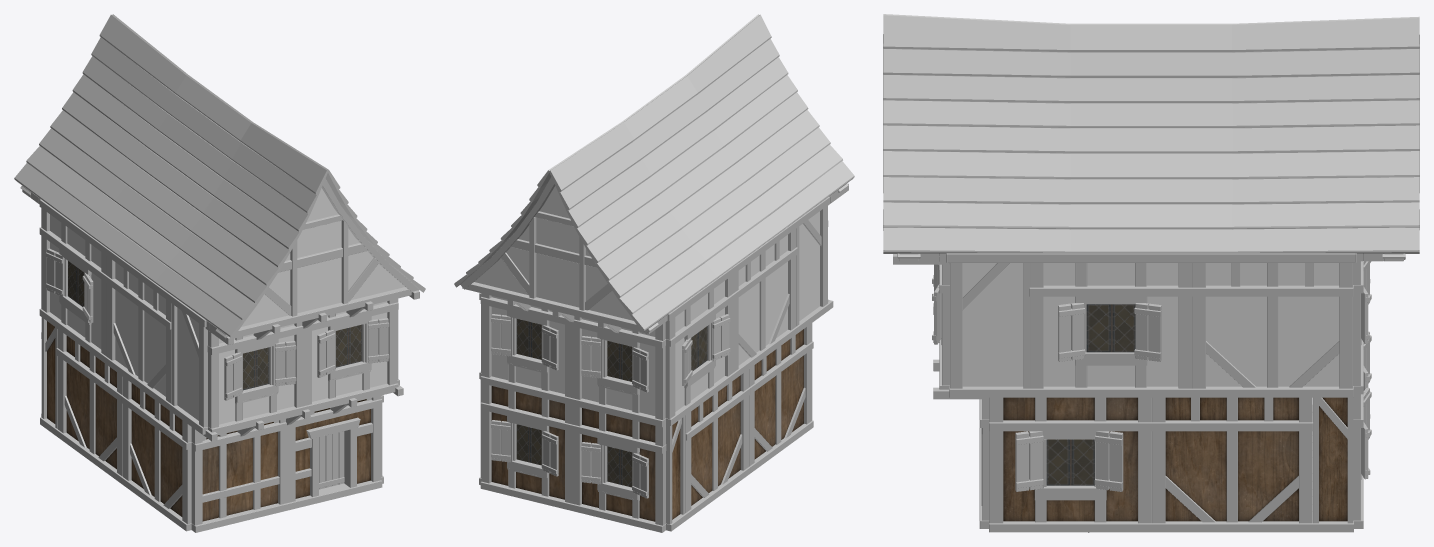
The model's file is House_1A2.fbx.
3 views of the same model, side by side, from view 1: azimuth 30°, elevation 25°; view 2: azimuth 150°, elevation 25°; view 3: azimuth 270°, elevation 25° (orthographic). The views are drawn at different scales.
Visible parts, largest first — view 1: House_1A2, Cube.2369, Plane.366, Plane.367, Plane.361; view 2: House_1A2, Plane.303, Plane.306, Plane.305, Plane.302, Plane.361; view 3: House_1A2, Plane.362, Plane.363.
Boxes of the visible parts, x1,y1,x2,y2 form: House_1A2: [14, 14, 425, 532]; Cube.2369: [319, 431, 344, 489]; Plane.366: [243, 347, 268, 390]; Plane.367: [336, 324, 361, 367]; Plane.361: [68, 261, 84, 306]; House_1A2: [454, 14, 854, 532]; Plane.303: [516, 319, 541, 359]; Plane.306: [516, 424, 541, 465]; Plane.305: [607, 446, 632, 487]; Plane.302: [607, 341, 632, 381]; Plane.361: [691, 326, 707, 370]; House_1A2: [883, 14, 1419, 532]; Plane.362: [1086, 304, 1135, 352]; Plane.363: [1046, 439, 1094, 485].
Bounding box in the file's own units: 859 × 1460 × 1530.
